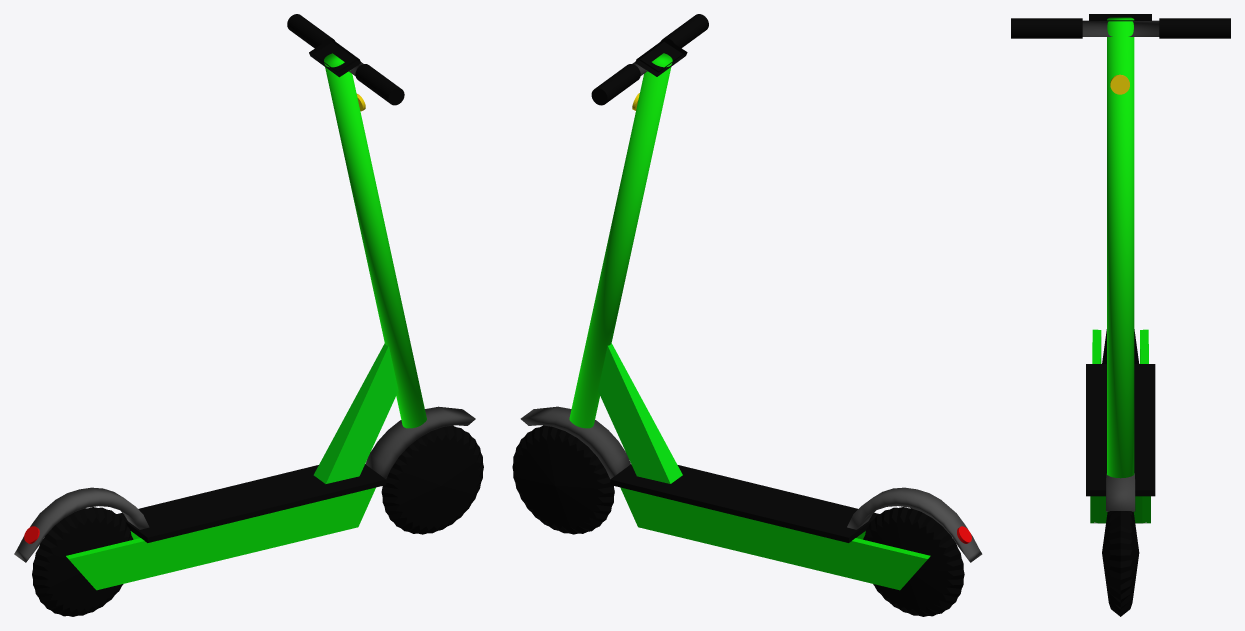
File: Step.fbx
The picture shows the model from 3 angles, left to right: view 1: azimuth 30°, elevation 25°; view 2: azimuth 150°, elevation 25°; view 3: azimuth 270°, elevation 25°; orthographic projection. The views are drawn at different scales.
Parts seen in each view (by area): view 1: Cylinder.004, Cylinder, Cylinder.001, Cube.001, Cylinder.002, Cube, Cylinder.003, Cylinder.005, Cylinder.008, Cube.003, Cylinder.007; view 2: Cylinder.004, Cylinder, Cylinder.001, Cube.001, Cylinder.002, Cube, Cylinder.003, Cylinder.005, Cylinder.007, Cube.003, Cylinder.008; view 3: Cylinder, Cube.001, Cylinder.001, Cylinder.004, Cylinder.007, Cylinder.008, Cylinder.005, Cylinder.006, Cube.003, Cube.004.
Part boxes in pixels (x1,y1,x2,y2): Cylinder.004: [66, 487, 375, 590]; Cylinder: [324, 53, 426, 428]; Cylinder.001: [381, 425, 483, 534]; Cube.001: [117, 464, 386, 542]; Cylinder.002: [32, 507, 133, 616]; Cube: [313, 343, 398, 483]; Cylinder.003: [14, 487, 149, 562]; Cylinder.005: [365, 406, 475, 479]; Cylinder.008: [355, 64, 404, 105]; Cube.003: [309, 38, 360, 77]; Cylinder.007: [287, 14, 335, 48]; Cylinder.004: [620, 487, 930, 590]; Cylinder: [569, 53, 672, 428]; Cylinder.001: [512, 425, 614, 534]; Cube.001: [610, 464, 879, 542]; Cylinder.002: [863, 507, 964, 616]; Cube: [598, 343, 682, 483]; Cylinder.003: [847, 487, 982, 562]; Cylinder.005: [520, 406, 630, 479]; Cylinder.007: [591, 64, 640, 105]; Cube.003: [635, 38, 687, 76]; Cylinder.008: [661, 14, 708, 48]; Cylinder: [1107, 17, 1134, 478]; Cube.001: [1086, 364, 1155, 496]; Cylinder.001: [1102, 511, 1139, 616]; Cylinder.004: [1090, 329, 1150, 523]; Cylinder.007: [1159, 18, 1230, 38]; Cylinder.008: [1011, 18, 1082, 38]; Cylinder.005: [1106, 473, 1135, 511]; Cylinder.006: [1082, 20, 1159, 36]; Cube.003: [1089, 14, 1151, 20]; Cube.004: [1110, 74, 1129, 94].
Size of the model in its own units: 159 by 166 by 60.22.
